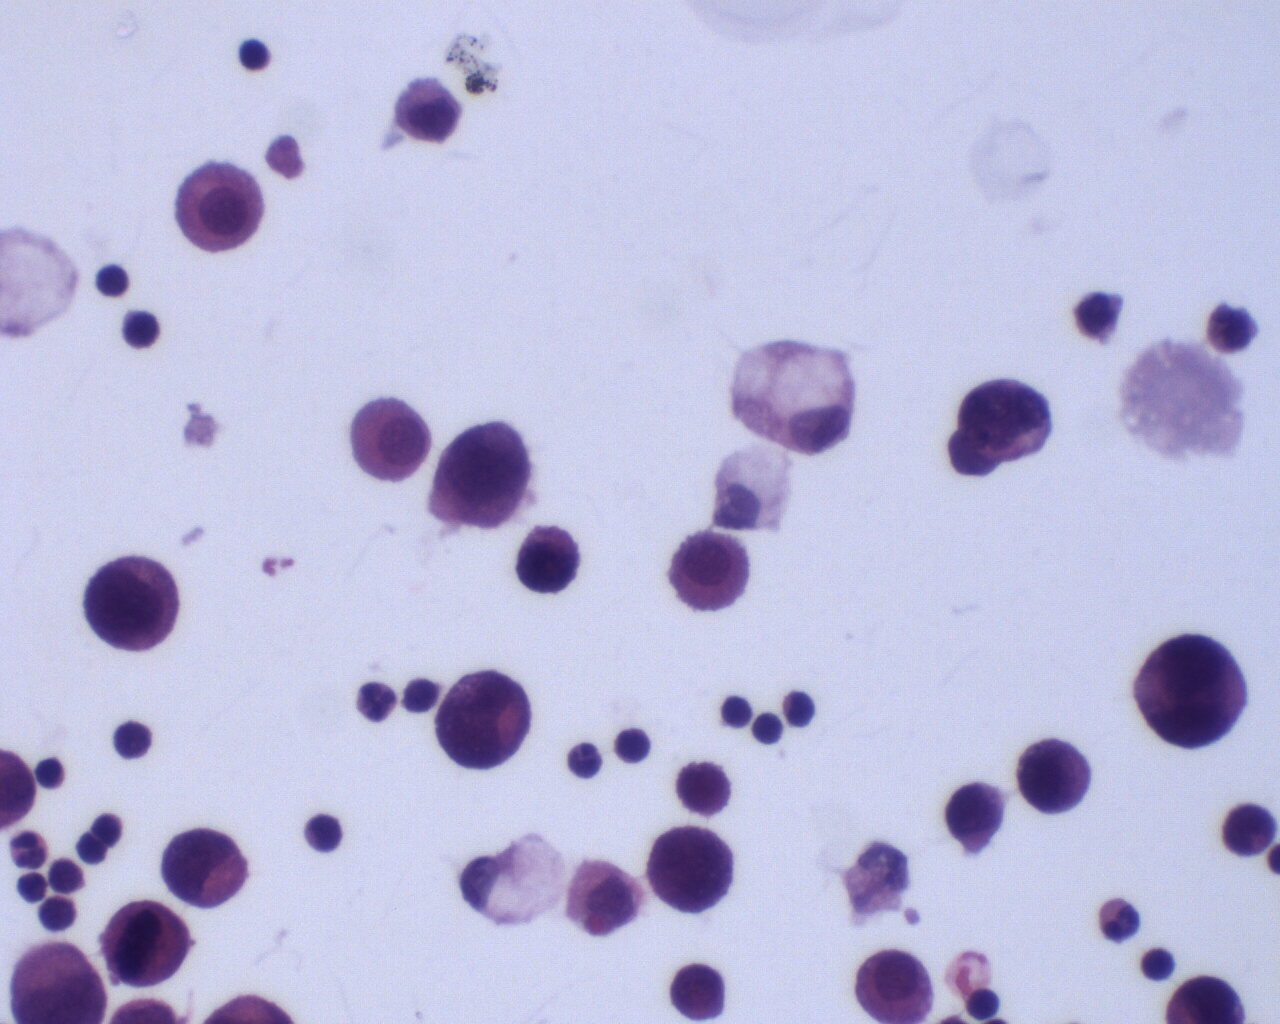ab: (1133, 627, 1251, 751), (425, 420, 533, 526), (432, 669, 533, 774), (82, 554, 183, 657), (97, 900, 193, 991), (959, 375, 1055, 464), (648, 825, 737, 915), (158, 825, 251, 910), (1015, 737, 1092, 817), (391, 75, 464, 148), (514, 520, 579, 594), (944, 779, 1007, 850), (665, 959, 730, 1022), (674, 758, 735, 821), (1219, 801, 1279, 858)
histo: (731, 333, 857, 457)
lymph: (114, 305, 164, 354), (234, 30, 278, 73), (303, 813, 344, 857), (718, 692, 757, 730), (30, 757, 66, 792)
meso: (171, 156, 273, 255), (665, 530, 757, 618), (345, 392, 433, 484), (851, 946, 938, 1024)
neutro: (353, 677, 402, 725), (1097, 895, 1143, 942), (8, 829, 53, 871), (565, 739, 603, 781)
